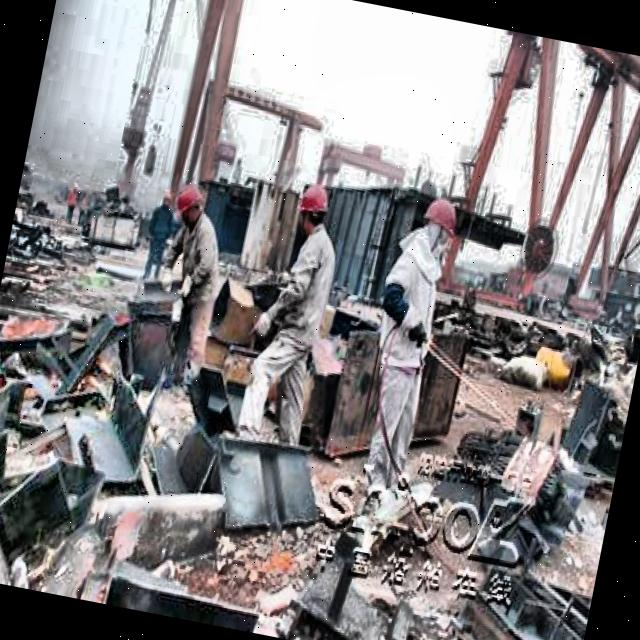helmet: (415, 188, 466, 254), (291, 182, 333, 242), (168, 176, 212, 229)
